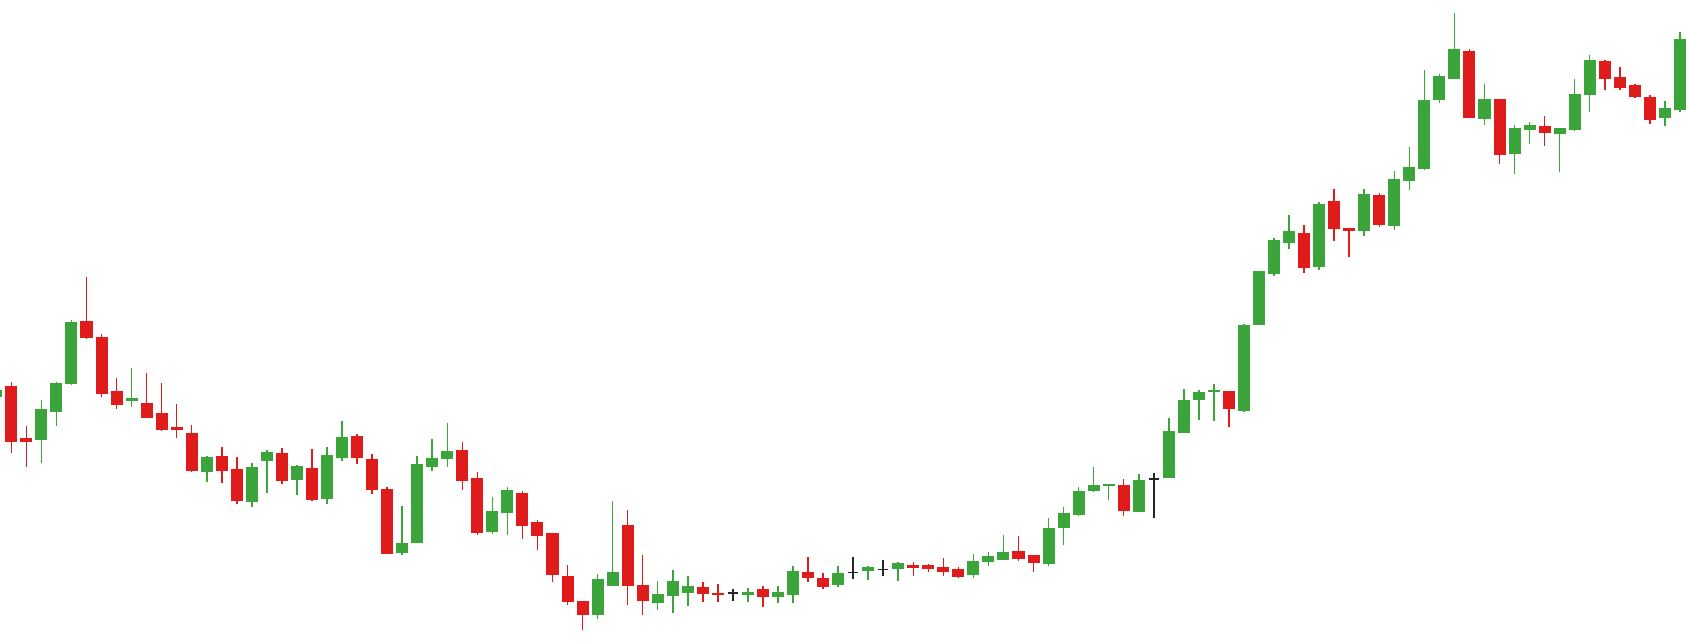sell: (334, 425, 468, 516)
